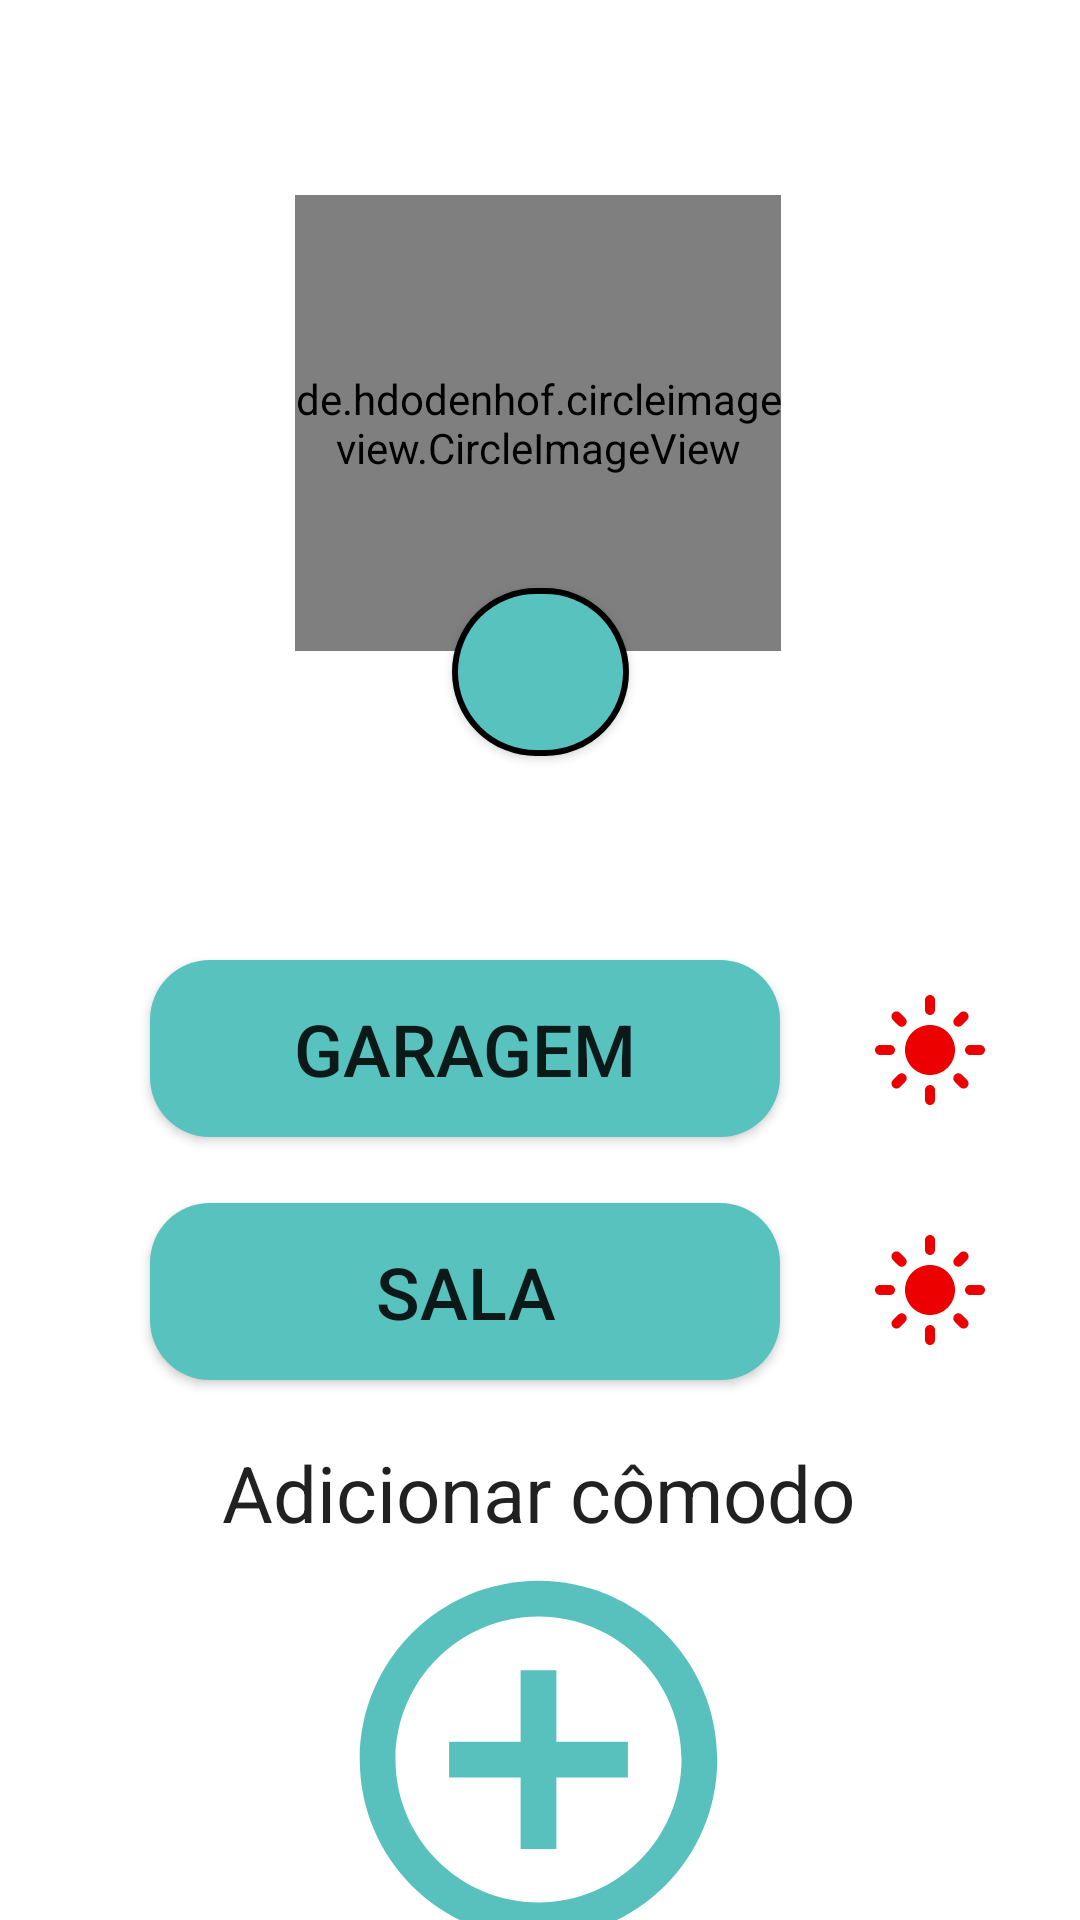

Named icons in this screenshot (1080×1920) and their centers, (x=x, y=y):
ligh off: (x=930, y=1050), (x=930, y=1290)
